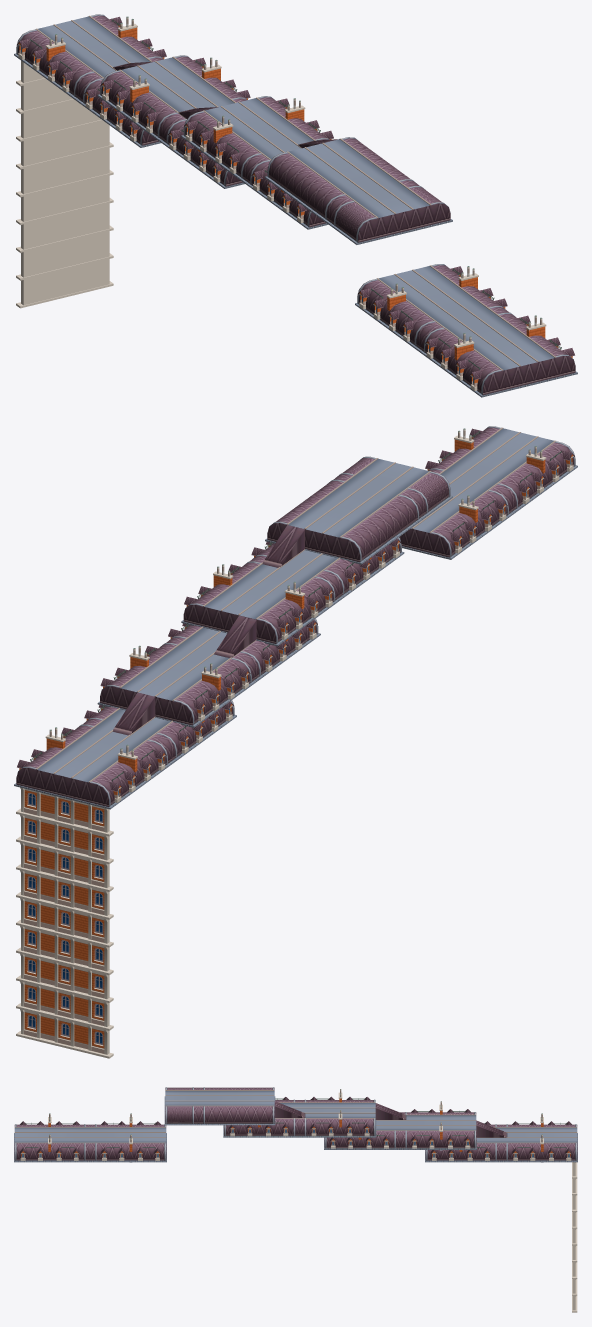
The model's file is Rooftop_Step_Test_01.FBX.
3 views of the same model, one above another, from view 1: azimuth 30°, elevation 25°; view 2: azimuth 150°, elevation 25°; view 3: azimuth 270°, elevation 25° (orthographic). The views are drawn at different scales.
Visible parts, largest first — view 1: Object003; view 2: Object003, Ramp Test 003, Ramp Test 1, Ramp Test 002; view 3: Object003, Ramp Test 003, Ramp Test 002, Ramp Test 1.
Boxes of the visible parts, bbox=[...] form: Object003: bbox=[14, 14, 577, 397]; Object003: bbox=[14, 426, 577, 1058]; Ramp Test 003: bbox=[113, 692, 155, 735]; Ramp Test 1: bbox=[262, 525, 304, 567]; Ramp Test 002: bbox=[214, 615, 256, 658]; Object003: bbox=[14, 1087, 577, 1312]; Ramp Test 003: bbox=[476, 1120, 507, 1137]; Ramp Test 002: bbox=[375, 1103, 406, 1119]; Ramp Test 1: bbox=[274, 1101, 305, 1117].
Size of the model in its own units: 74.4 by 236 by 601.
